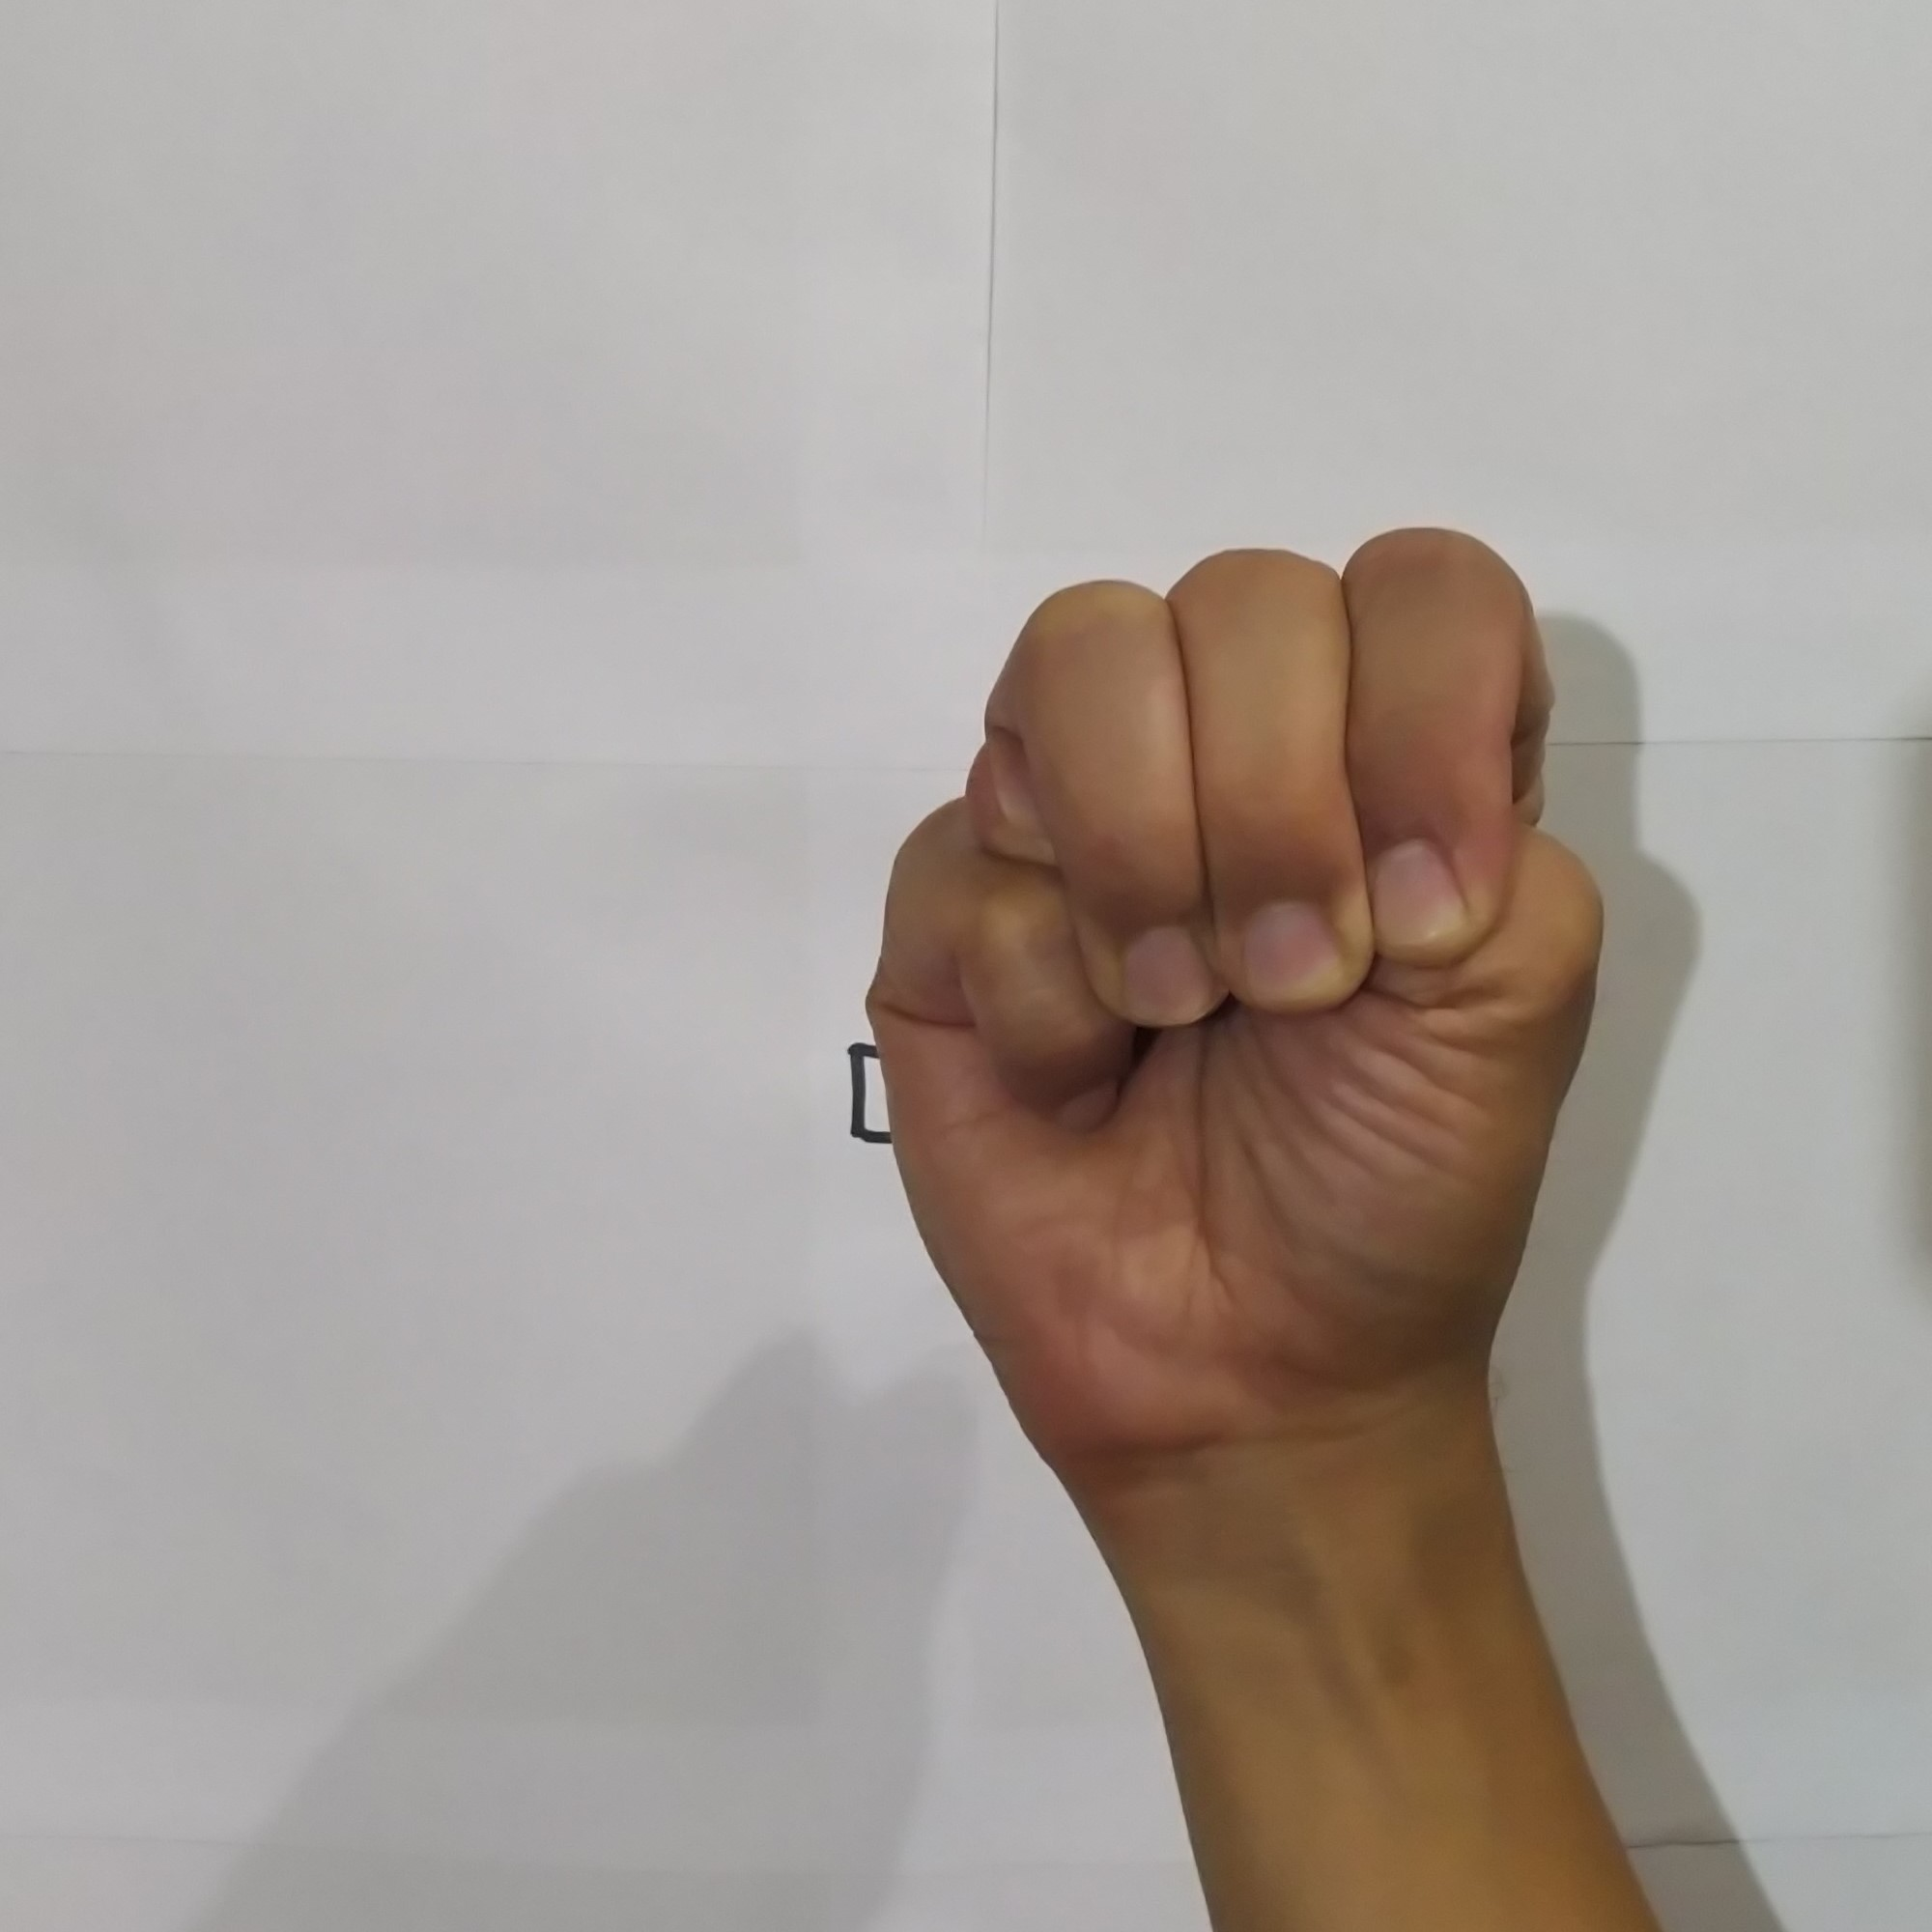M: (835, 492, 1626, 1444)
